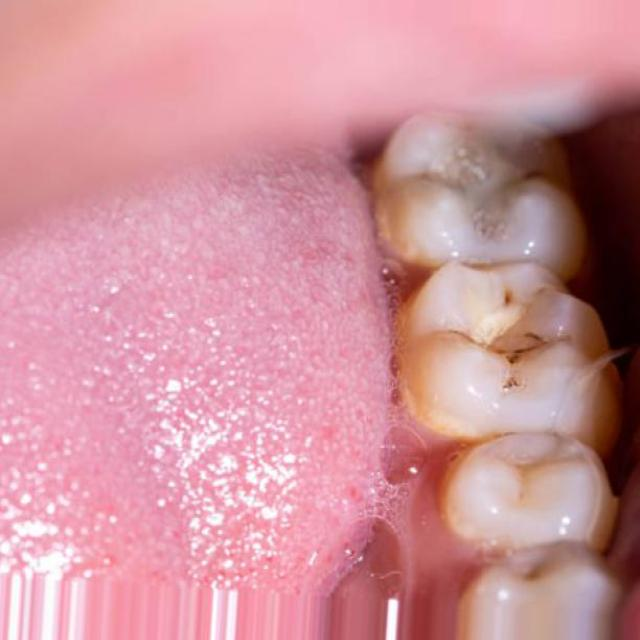caries: (436, 262, 564, 400)
